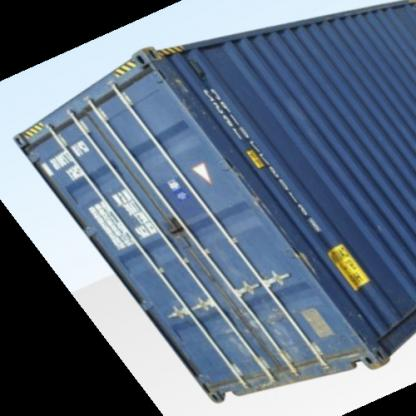Damage: (221, 301, 299, 371), (160, 65, 214, 135), (228, 155, 272, 231), (286, 228, 320, 278)
